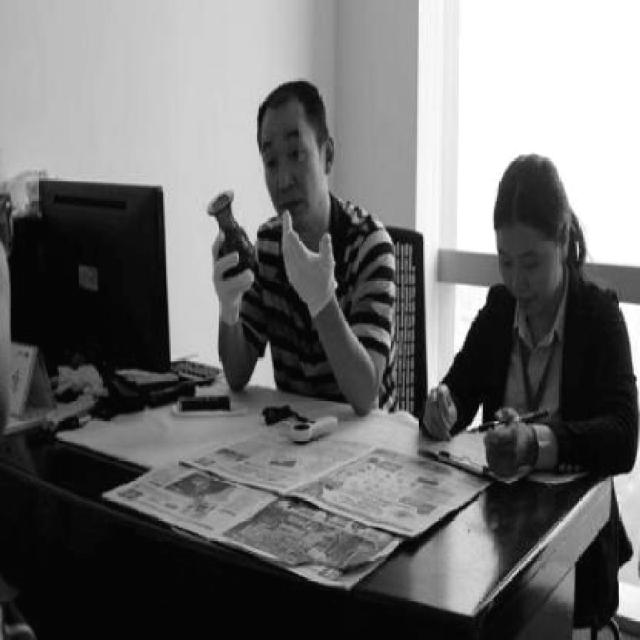face_nomask: (500, 226, 565, 325), (260, 120, 325, 214)
hand_glove: (278, 206, 340, 308), (209, 230, 254, 318)
hand_noglove: (483, 403, 532, 477), (428, 382, 460, 442)
head_nohelmet: (483, 158, 568, 244), (252, 72, 323, 131)
person: (411, 137, 640, 626), (220, 76, 402, 407)
